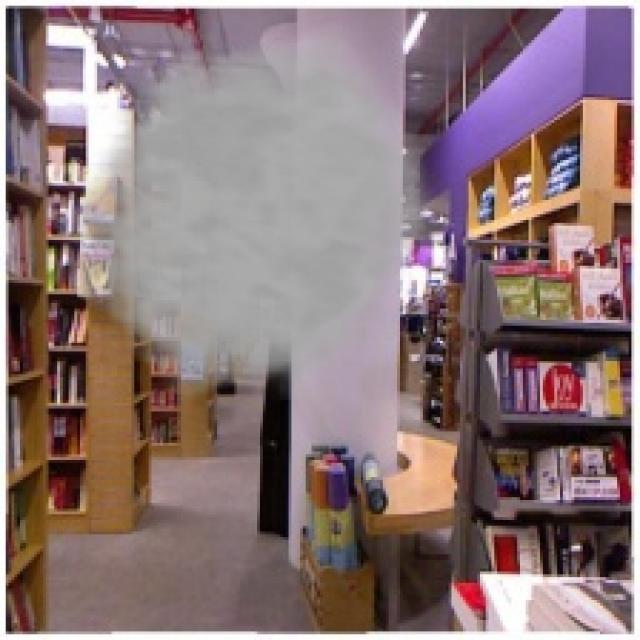Smoke: (54, 17, 446, 400)
